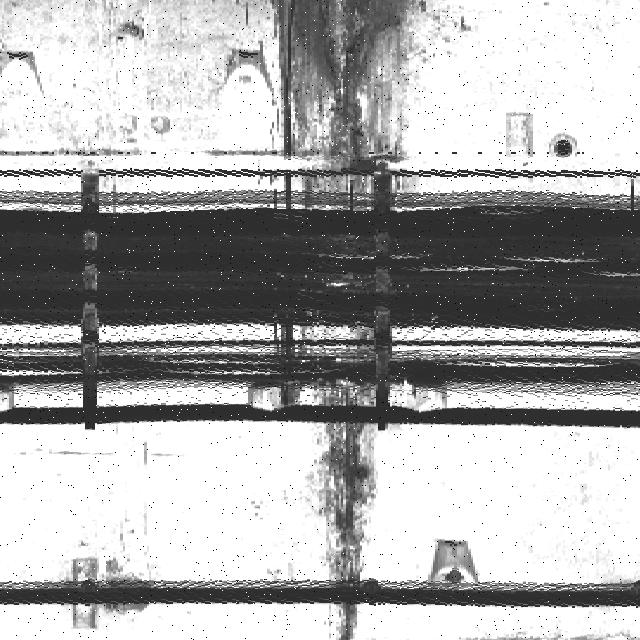leakage: (258, 0, 438, 206), (307, 328, 389, 639)
